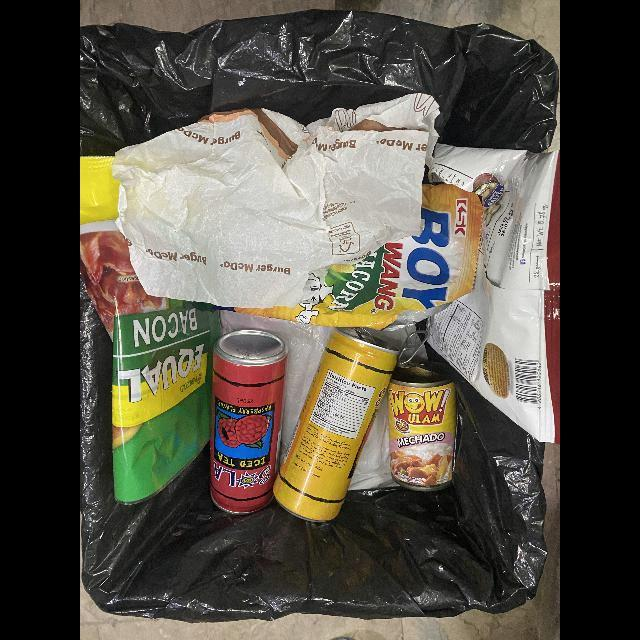aluminum: (273, 327, 399, 523), (209, 329, 288, 517), (387, 328, 457, 493)
food_wrapper: (80, 155, 222, 505), (426, 143, 560, 446), (213, 183, 484, 331)
paper: (110, 93, 440, 309)
